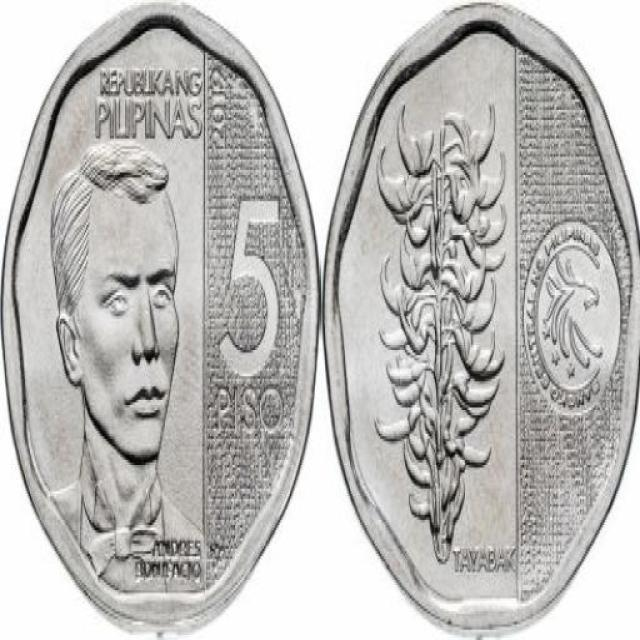5 peso: (0, 6, 329, 640), (331, 5, 640, 640)
